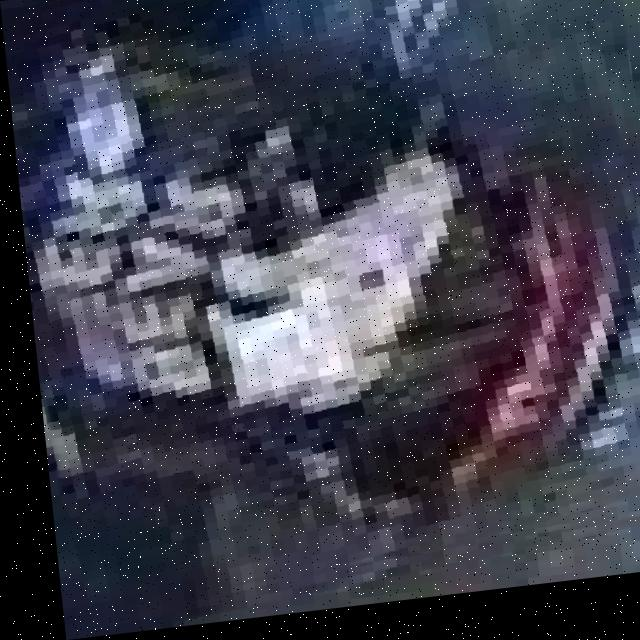can: (8, 0, 640, 565)
